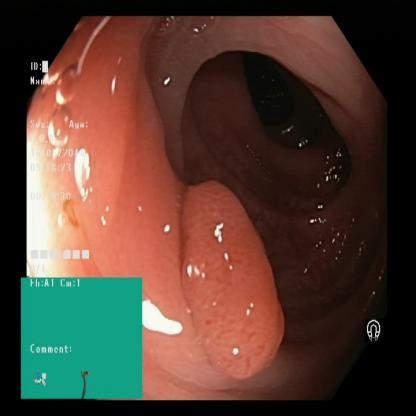Labels: (20, 279, 142, 400), (30, 61, 88, 278), (360, 310, 392, 355)
Polyps: (192, 178, 289, 380)
